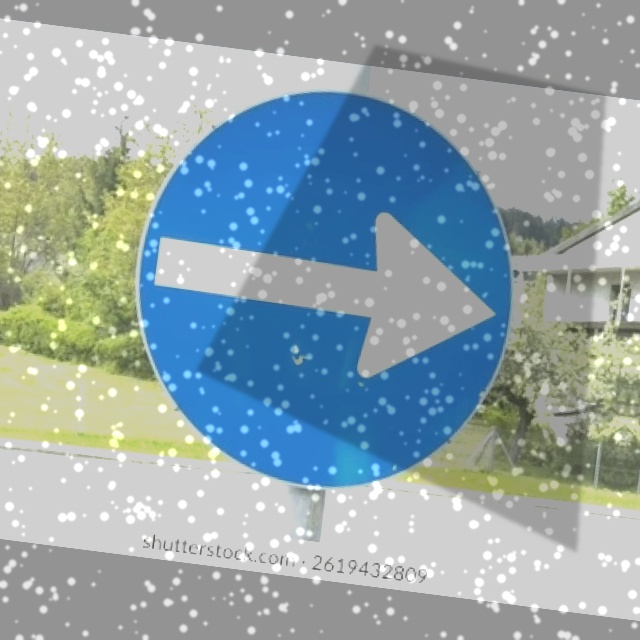Compulsory_Turn_Right: (110, 65, 537, 512)
